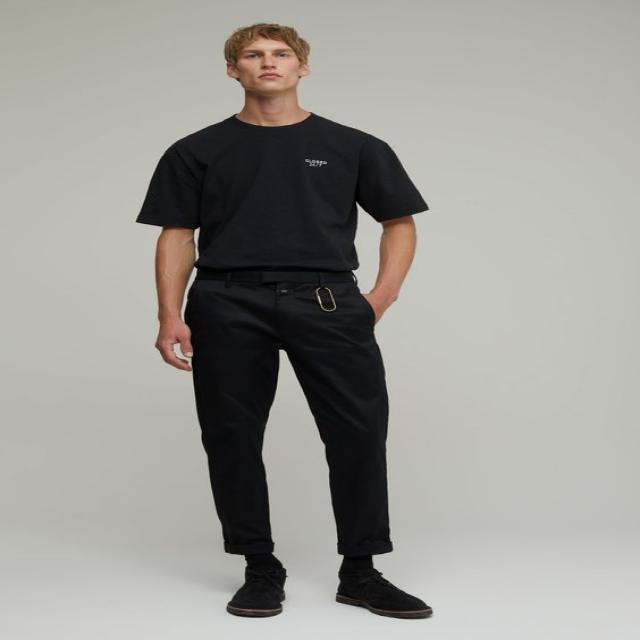shoulder: (151, 125, 395, 181)
